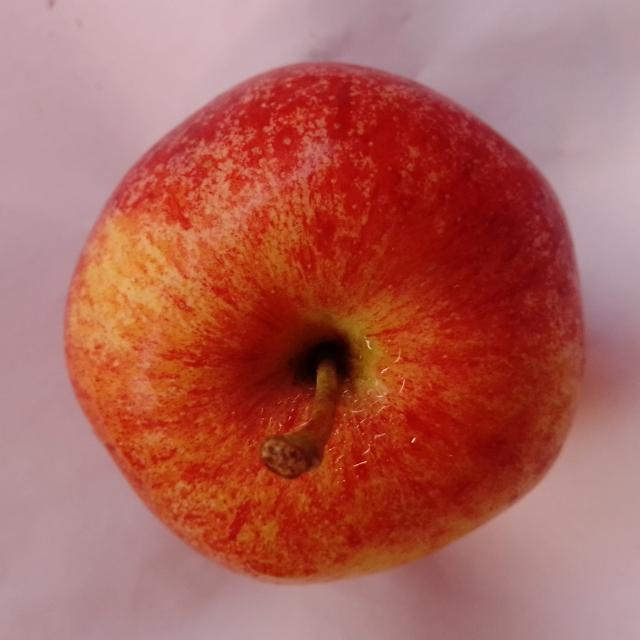Fresh Apple: (60, 63, 585, 587)
